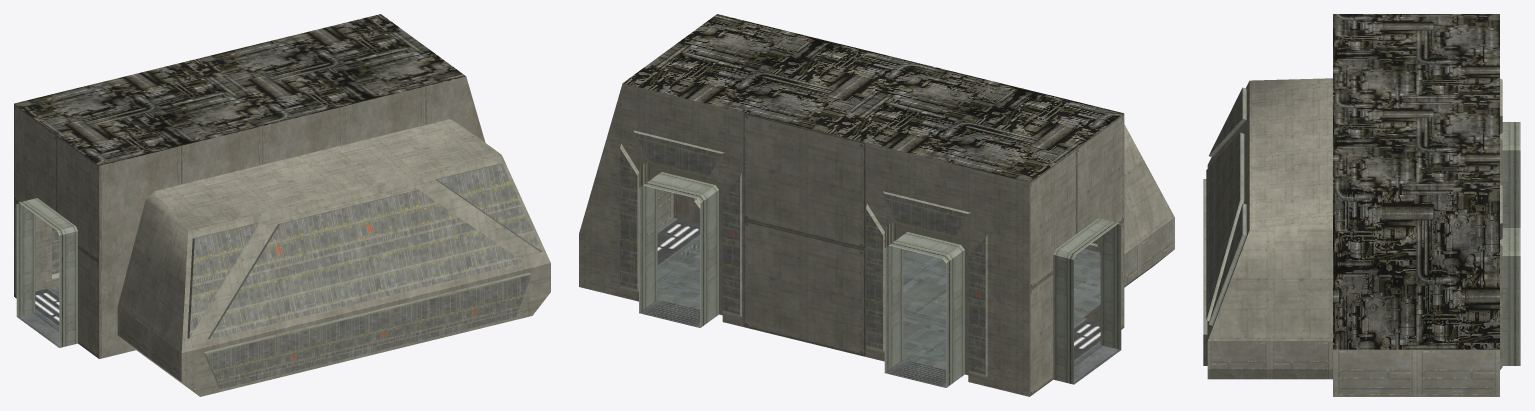
Rendered from thm_tato_lucky_despot_r15_lobby02_mesh_r15.fbx.
The picture shows the model from 3 angles, left to right: view 1: azimuth 30°, elevation 25°; view 2: azimuth 150°, elevation 25°; view 3: azimuth 270°, elevation 25°; orthographic projection. The views are drawn at different scales.
Visible parts, largest first — view 1: mesh_node; view 2: mesh_node; view 3: mesh_node.
Part boxes in pixels (x1,y1,x2,y2): mesh_node: (14,14,550,396); mesh_node: (579,14,1174,396); mesh_node: (1203,14,1520,396).
Bounding box in the file's own units: 11.5 × 5 × 7.61.
